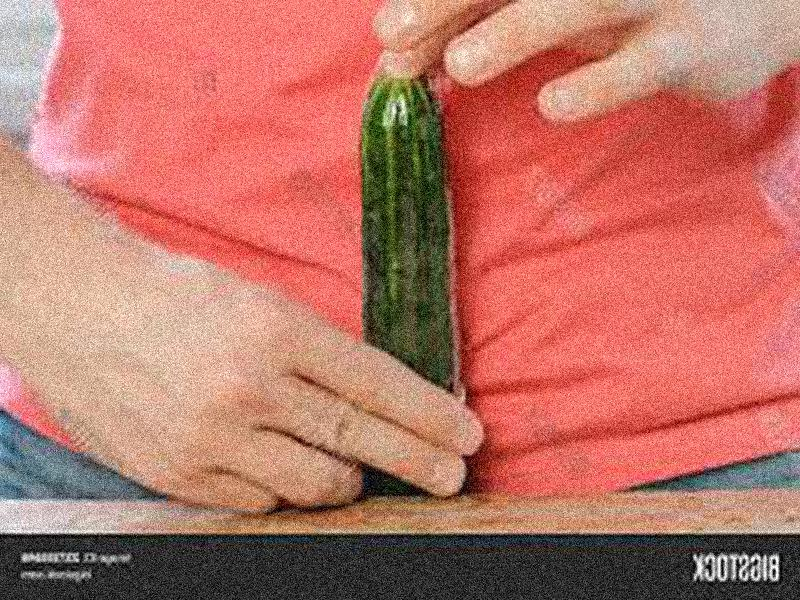Cucumber: (358, 75, 458, 396)
